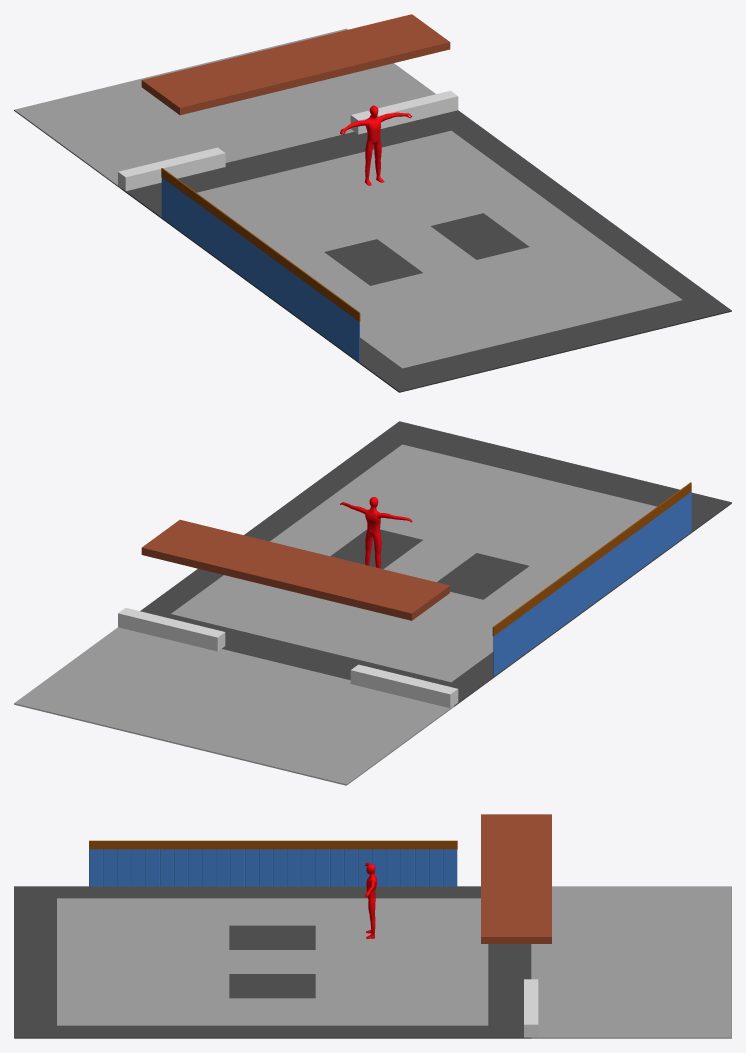
The model's file is Dojo.fbx.
3 views of the same model, one above another, from view 1: azimuth 30°, elevation 25°; view 2: azimuth 150°, elevation 25°; view 3: azimuth 270°, elevation 25° (orthographic). The views are drawn at different scales.
Visible parts, largest first — view 1: Dojo.001, Shelf, Wall Cushion, Cube.001, Wooden Beam, Cube, Skin; view 2: Dojo.001, Shelf, Wall Cushion, Cube.001, Cube, Wooden Beam, Skin; view 3: Dojo.001, Wall Cushion, Shelf, Wooden Beam, Cube, Skin.
Part boxes in pixels (x1,y1,x2,y2): Dojo.001: (14,28,731,392); Shelf: (141,14,450,115); Wall Cushion: (161,177,359,362); Cube.001: (118,147,225,190); Wooden Beam: (161,168,360,321); Cube: (350,90,458,134); Skin: (340,105,412,185); Dojo.001: (14,421,731,785); Shelf: (141,519,449,620); Wall Cushion: (493,492,691,676); Cube.001: (350,664,458,708); Cube: (118,607,225,651); Wooden Beam: (492,482,691,636); Skin: (340,497,412,568); Dojo.001: (14,886,731,1038); Wall Cushion: (89,849,457,886); Shelf: (481,814,551,943); Wooden Beam: (89,840,457,849); Cube: (524,979,538,1037); Skin: (365,862,377,938).
Bounding box in the file's own units: 5001 × 1521 × 10041.
